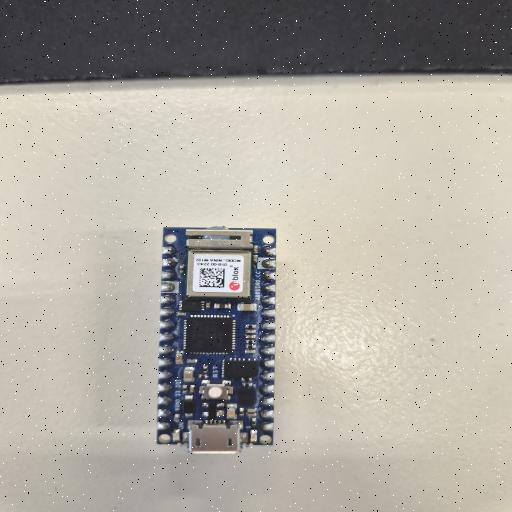arduino-nano-iot-33: (158, 226, 275, 453)
